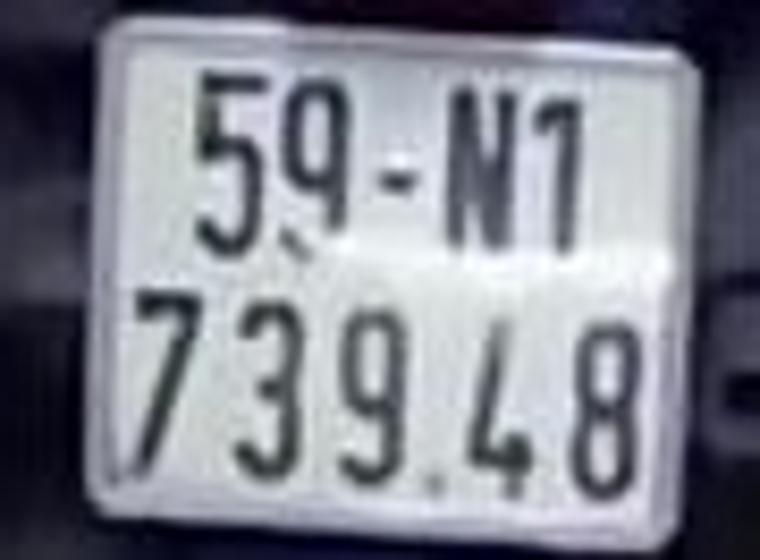-: (370, 160, 417, 201)
.: (423, 454, 457, 510)
1: (534, 94, 590, 260)
3: (236, 298, 309, 487)
4: (467, 321, 526, 513)
5: (181, 67, 269, 262)
7: (127, 274, 204, 481)
8: (564, 320, 641, 503)
9: (337, 295, 404, 487), (283, 79, 349, 265)
N: (443, 78, 527, 256)
